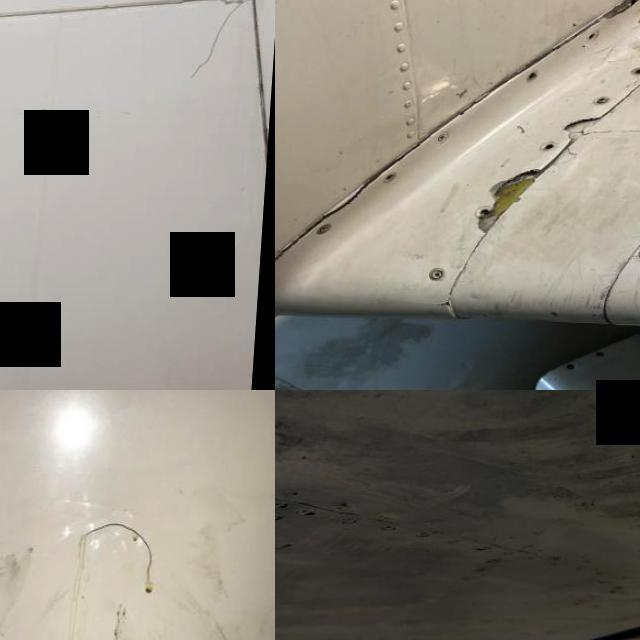Crack: (77, 518, 159, 595), (187, 0, 257, 88), (476, 164, 554, 237), (540, 0, 640, 53), (316, 170, 383, 218), (562, 113, 617, 146), (424, 300, 476, 318)
Missing_Fastener: (386, 172, 402, 184), (545, 140, 559, 152), (588, 30, 602, 42), (527, 72, 542, 81), (634, 66, 640, 75)
